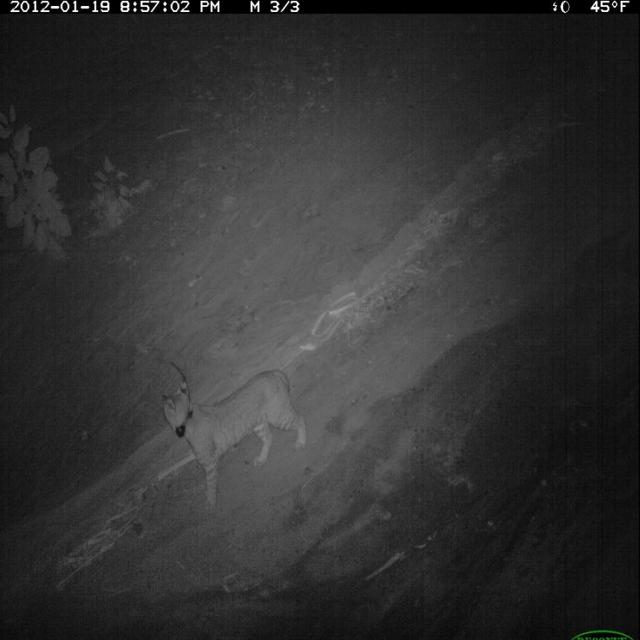bobcat: (158, 364, 312, 515)
